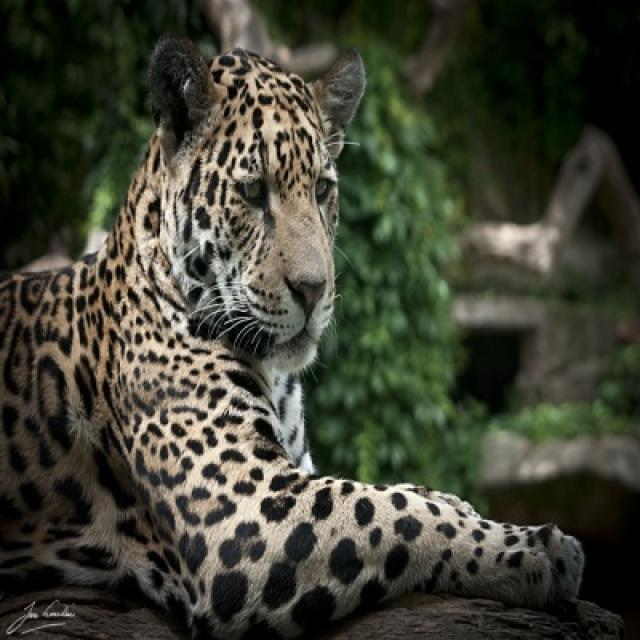Jaguar: (0, 30, 603, 638)
